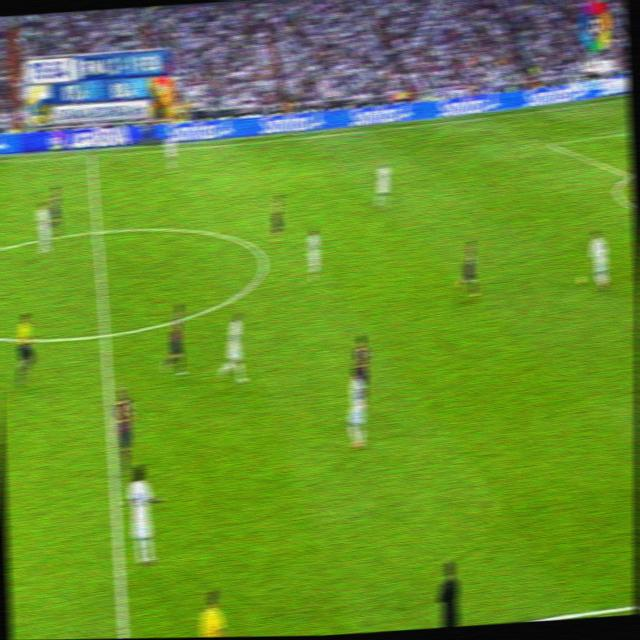halfcircle_bottom: (97, 320, 114, 348)
halfcircle_top: (89, 219, 105, 243)
midline_top_intersection: (87, 149, 97, 161)
top_arc_area_intersection: (623, 167, 634, 182)
